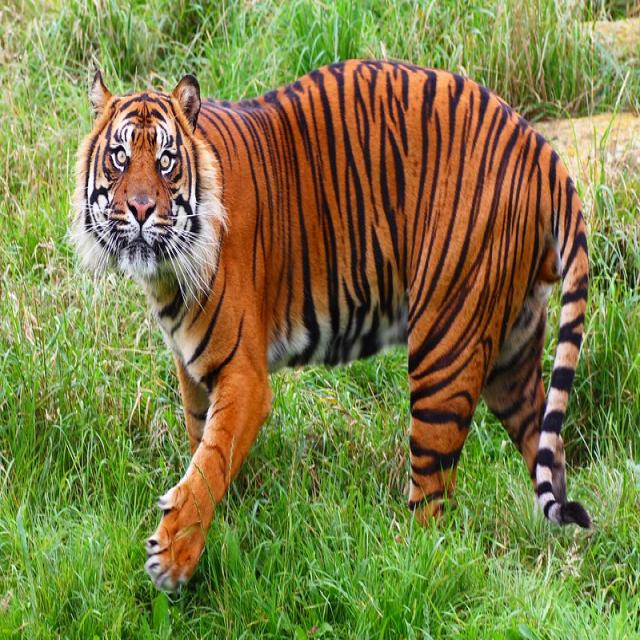Tiger: (64, 42, 595, 600)
